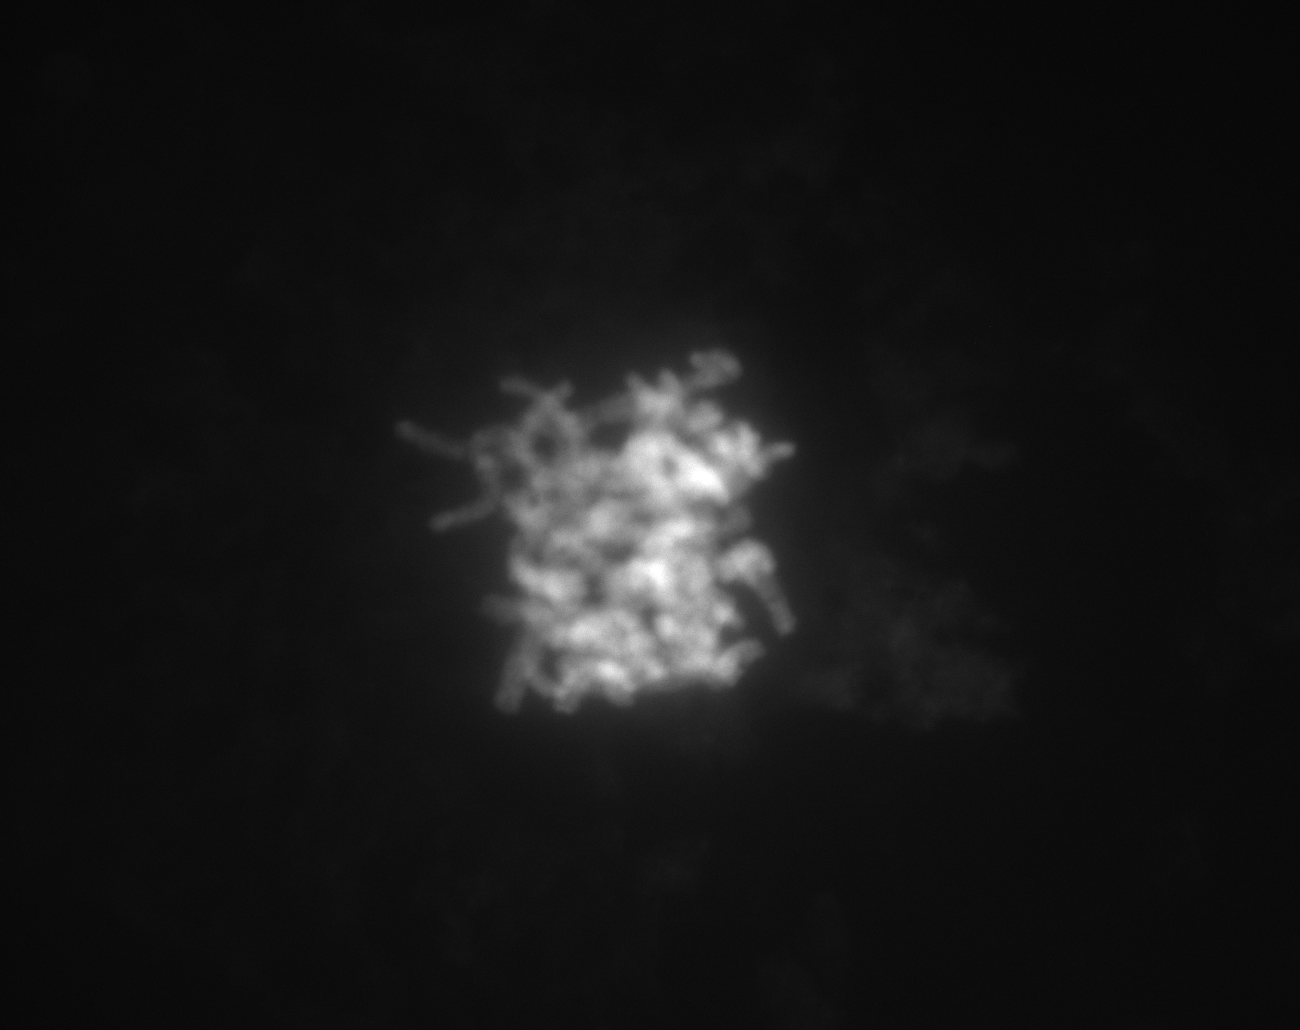Chromosomes: (376, 287, 850, 766)
